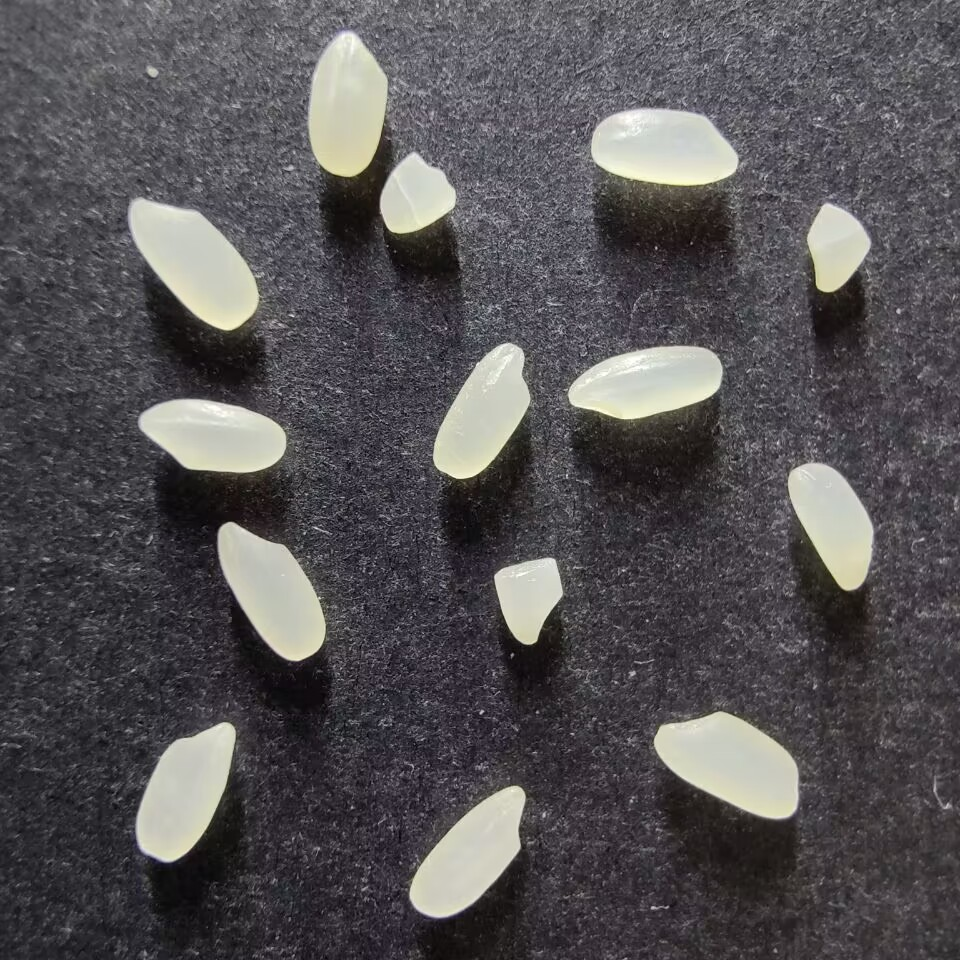broken: (378, 151, 456, 234), (493, 557, 564, 644), (806, 202, 871, 292)
rice: (127, 198, 259, 331), (652, 710, 799, 820), (408, 784, 525, 919), (216, 521, 326, 662), (135, 720, 236, 862), (431, 343, 531, 480), (307, 30, 388, 177), (567, 344, 722, 420), (589, 108, 738, 185), (786, 462, 874, 592), (137, 398, 286, 473)
